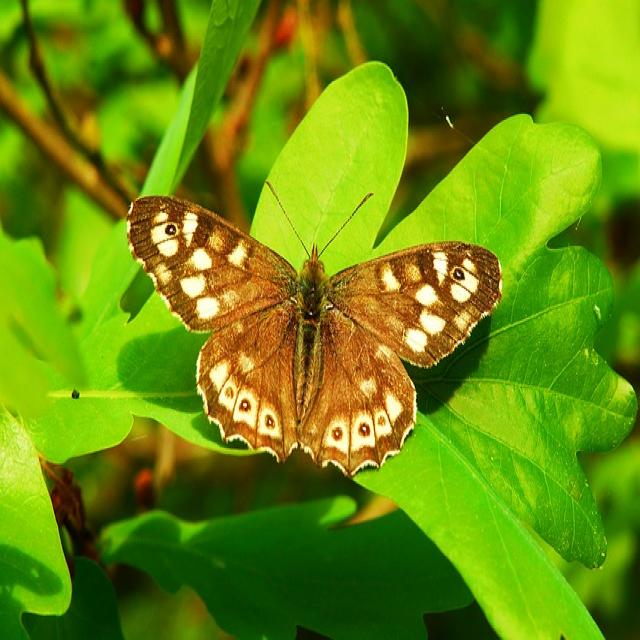butterfly: (128, 198, 503, 477)
